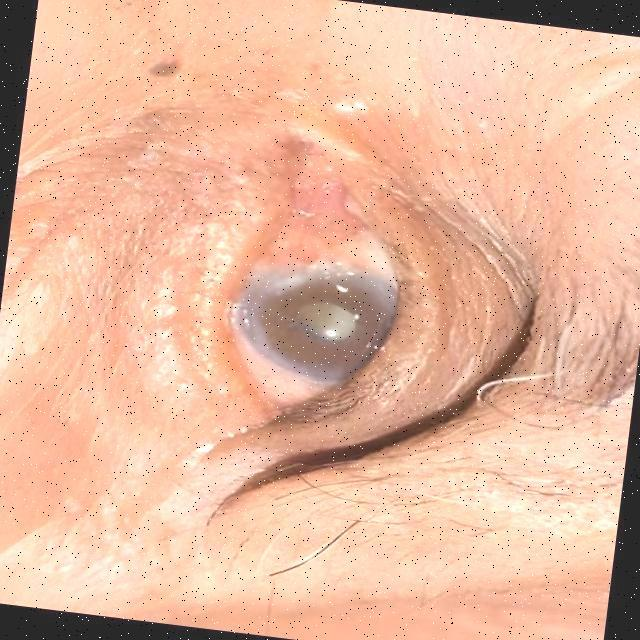Cataract: (222, 252, 416, 396)
